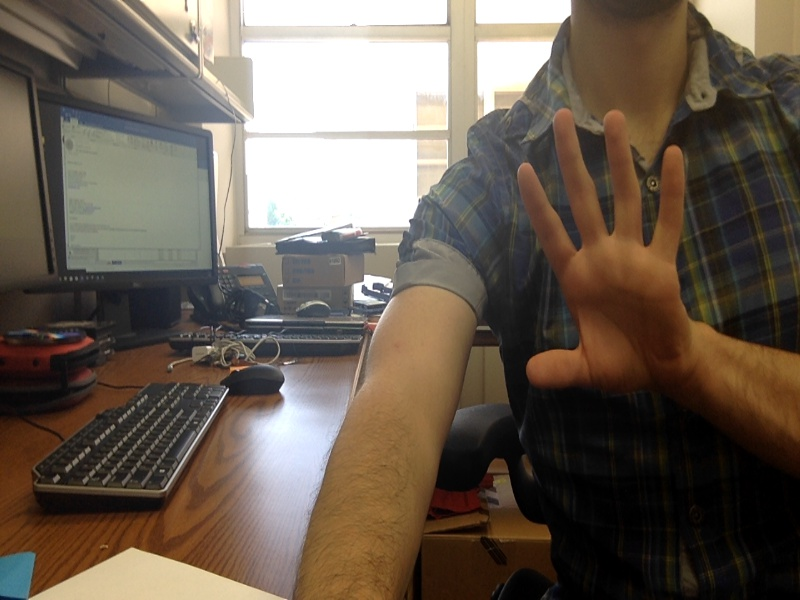5-hand: (518, 109, 701, 412)
